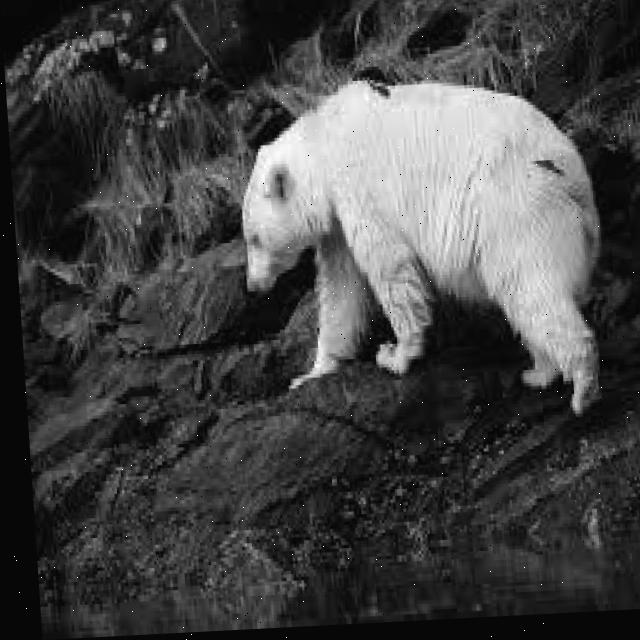Bear: (225, 96, 640, 417)
